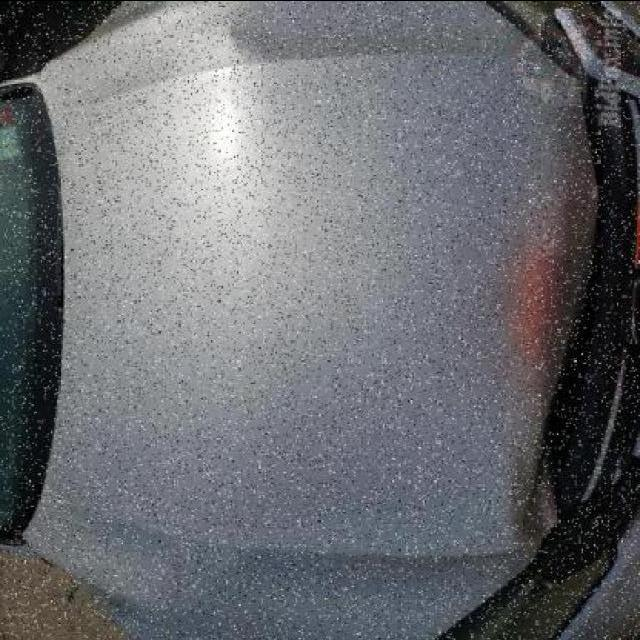bonnet-dent: (149, 127, 637, 638), (40, 1, 639, 314)
